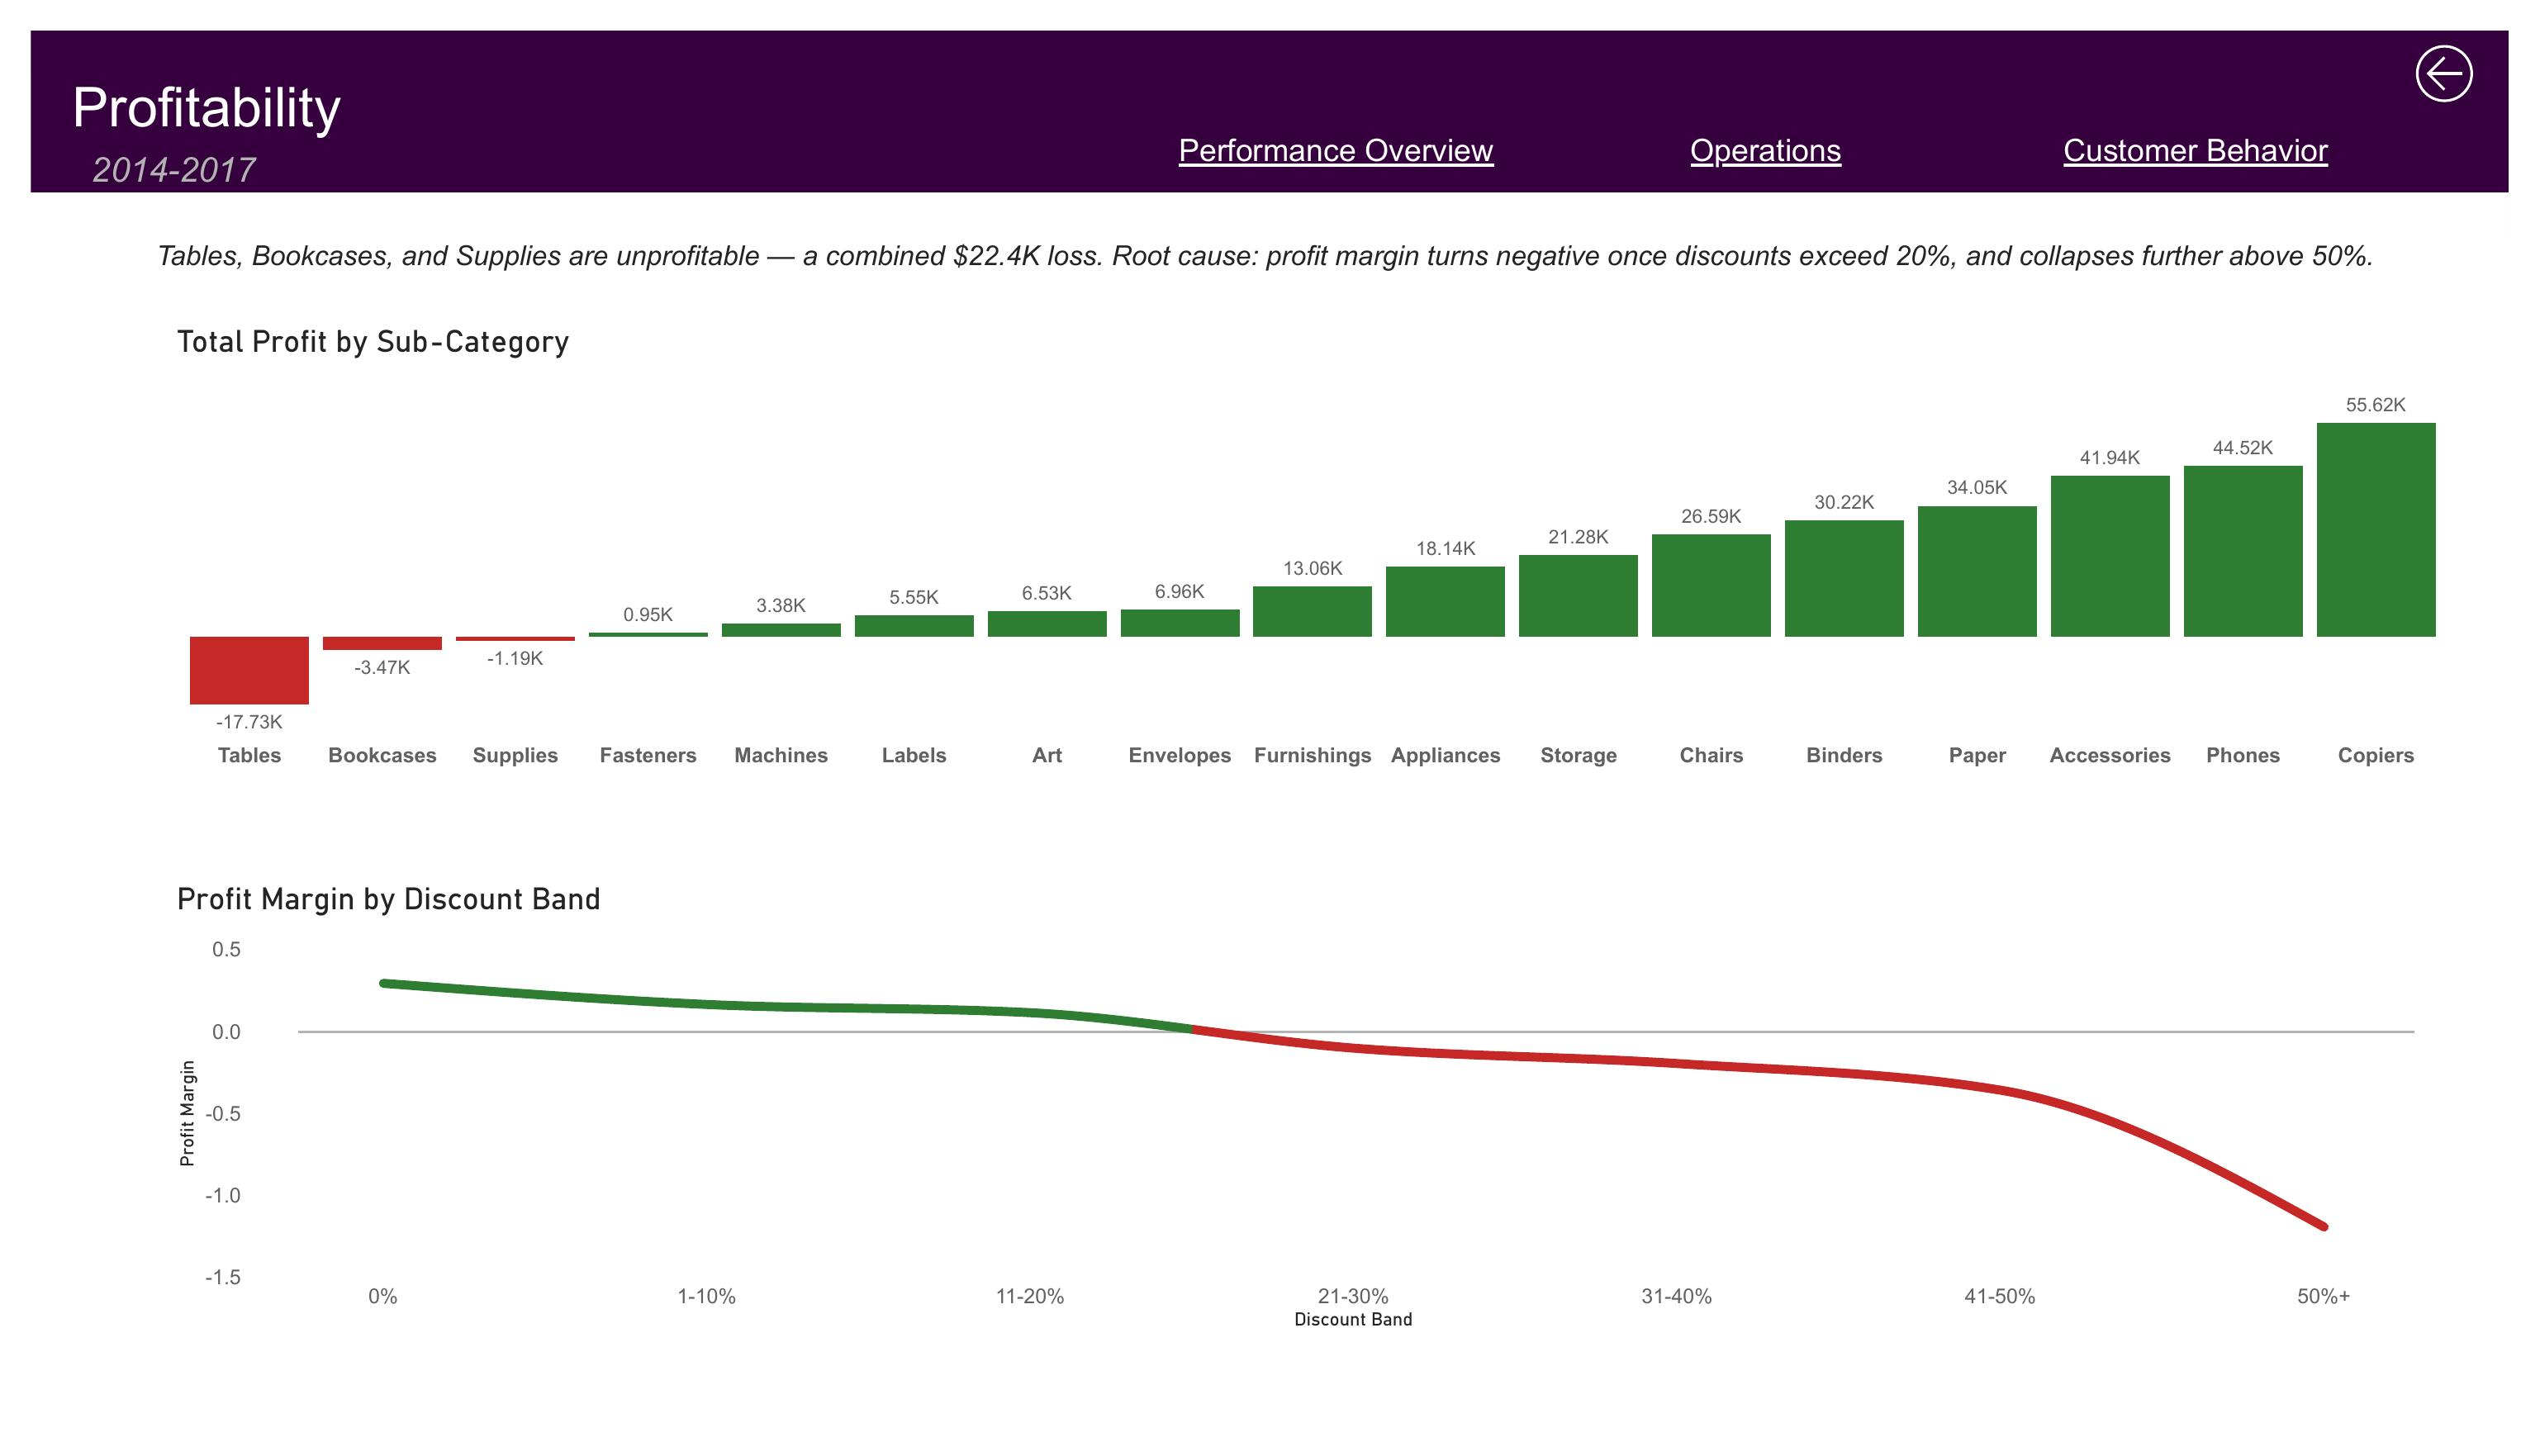

Layout of this report page (visuals, bound fields, positions):
{"tool":"powerbi","page":{"name":"Profitability","canvas":[1920,1080],"ordinal":2},"visuals":[{"type":"shape","box":[0,0,1920.2,125.2],"z":0},{"type":"shape","box":[207.3,707.3,1640,136.4],"z":1000},{"type":"textbox","box":[31.7,35.1,531,58.4],"z":2000},{"type":"clusteredColumnChart","title":"Total Profit by Sub-Category","fields":{"Category":["fct_category_performance.sub_category"],"Y":["Sum(fct_category_performance.total_profit)"]},"box":[96.7,213.3,1793.3,376.7],"z":3000},{"type":"lineChart","title":"Profit Margin by Discount Band","fields":{"Y":["Sum(fct_discount_impact.profit_margin)"],"Category":["fct_discount_impact.discount_band"]},"box":[96.7,645,1796.7,378.3],"z":4000},{"type":"textbox","box":[96.7,163.3,1733.3,50],"z":5000},{"type":"textbox","box":[47.3,92.7,190.9,47.3],"z":6000},{"type":"shape","box":[845.5,60,332.7,65.5],"z":7000},{"type":"shape","box":[1178.2,60,332.7,65.5],"z":8000},{"type":"shape","box":[1510.9,60,332.7,65.5],"z":9000},{"type":"actionButton","box":[1820,0,100,65],"z":9001}]}

Visuals, with their boxes on the page's 1920x1080 design canvas (x1, y1, x2, y2). These are canvas units, not pixel positions in the 2540x1456 screenshot, which may show the page scaled, cropped or inside an application window:
shape: detection(0, 0, 1920, 125)
shape: detection(207, 707, 1847, 844)
textbox: detection(32, 35, 563, 94)
"Total Profit by Sub-Category" clusteredColumnChart: detection(97, 213, 1890, 590)
"Profit Margin by Discount Band" lineChart: detection(97, 645, 1893, 1023)
textbox: detection(97, 163, 1830, 213)
textbox: detection(47, 93, 238, 140)
shape: detection(846, 60, 1178, 126)
shape: detection(1178, 60, 1511, 126)
shape: detection(1511, 60, 1844, 126)
actionButton: detection(1820, 0, 1920, 65)
